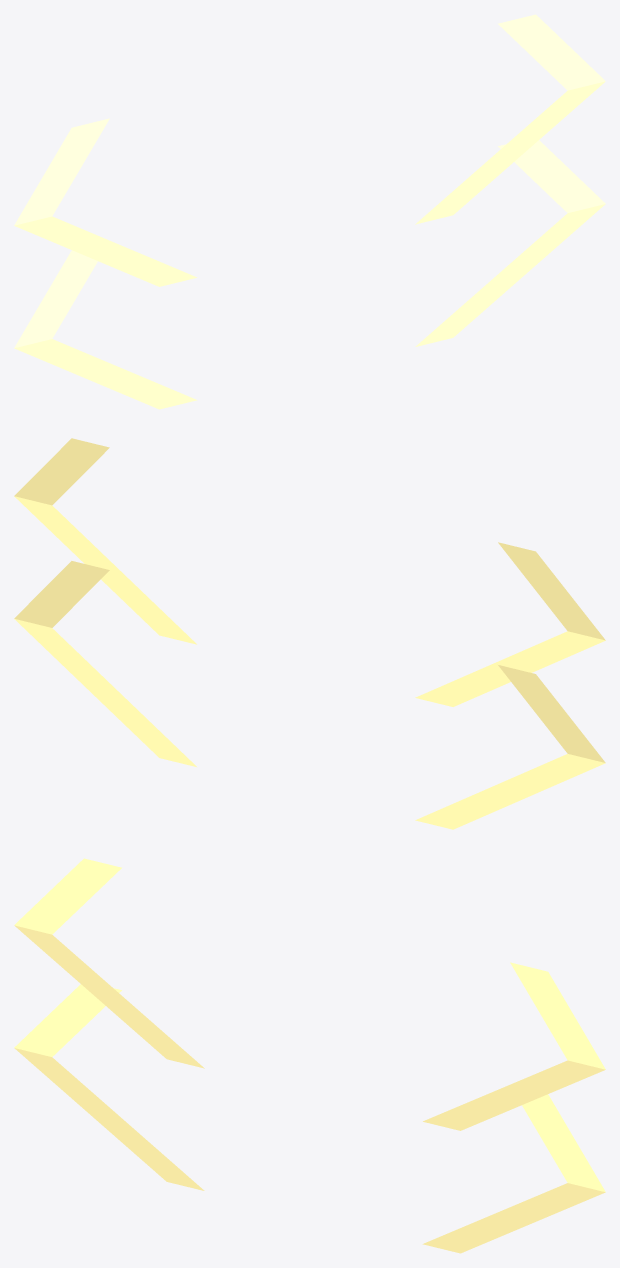
File: JUNO_AWAKENED_BUILD.glb
3 views of the same model, one above another, from view 1: azimuth 30°, elevation 25°; view 2: azimuth 150°, elevation 25°; view 3: azimuth 330°, elevation 25° (orthographic).
Visible parts, largest first — view 1: ANI08C_juno-spark_1_rail_L1, ANI08C_juno-spark_1_rail_R1, ANI08C_juno-spark_1_rail_L0, ANI08C_juno-spark_1_rail_R0; view 2: ANI08C_juno-spark_1_rail_L0, ANI08C_juno-spark_1_rail_R0, ANI08C_juno-spark_1_rail_R1, ANI08C_juno-spark_1_rail_L1; view 3: ANI08C_juno-spark_1_rail_R1, ANI08C_juno-spark_1_rail_L1, ANI08C_juno-spark_1_rail_R0, ANI08C_juno-spark_1_rail_L0.
Boxes of the visible parts, left/top/right/bottom form: ANI08C_juno-spark_1_rail_L1: left=14, top=118, right=196, bottom=286; ANI08C_juno-spark_1_rail_R1: left=415, top=14, right=605, bottom=224; ANI08C_juno-spark_1_rail_L0: left=14, top=250, right=197, bottom=409; ANI08C_juno-spark_1_rail_R0: left=415, top=140, right=605, bottom=346; ANI08C_juno-spark_1_rail_L0: left=415, top=665, right=605, bottom=829; ANI08C_juno-spark_1_rail_R0: left=14, top=561, right=196, bottom=766; ANI08C_juno-spark_1_rail_R1: left=14, top=438, right=196, bottom=644; ANI08C_juno-spark_1_rail_L1: left=415, top=542, right=605, bottom=706; ANI08C_juno-spark_1_rail_R1: left=423, top=962, right=605, bottom=1130; ANI08C_juno-spark_1_rail_L1: left=14, top=858, right=204, bottom=1068; ANI08C_juno-spark_1_rail_R0: left=422, top=1094, right=605, bottom=1253; ANI08C_juno-spark_1_rail_L0: left=14, top=984, right=204, bottom=1190.
Bounding box in the file's own units: 0.278 × 0.135 × 0.005.
